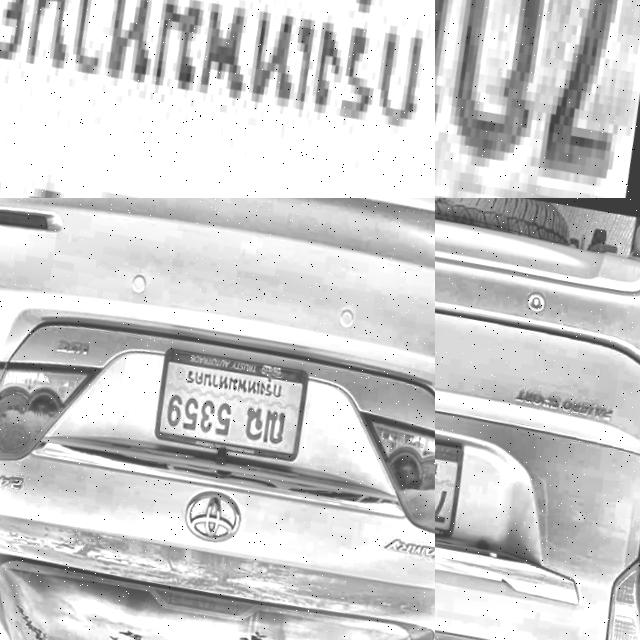license-plate: (0, 0, 435, 198), (435, 0, 640, 198), (144, 344, 310, 467), (435, 414, 469, 547)
